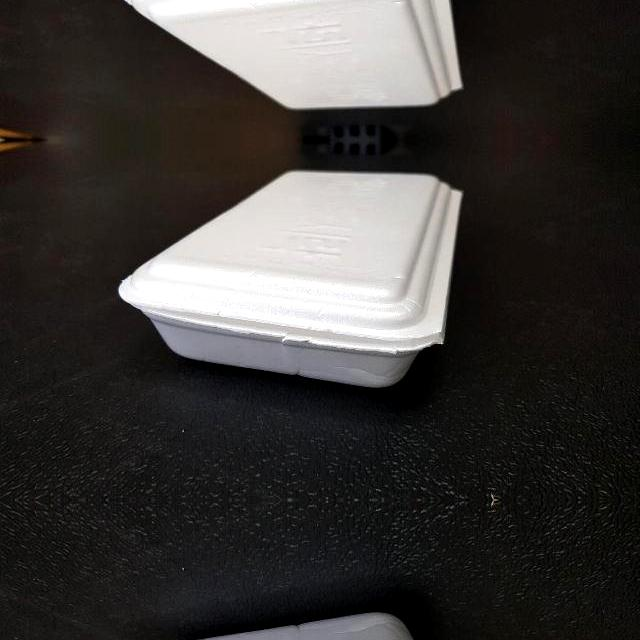Styrofoam: (117, 170, 466, 388), (118, 170, 463, 387), (116, 0, 465, 110), (123, 0, 463, 110)
